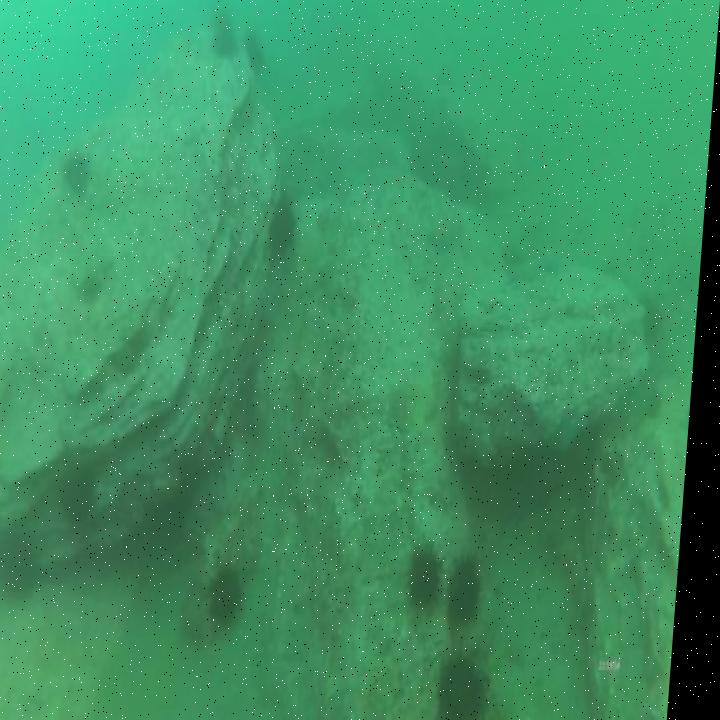echinus: (450, 661, 497, 720), (5, 539, 47, 597), (457, 562, 489, 631), (216, 572, 252, 628), (65, 468, 100, 519), (417, 549, 450, 603), (274, 198, 299, 254), (211, 9, 240, 57), (61, 148, 91, 190), (246, 39, 264, 71)
starfish: (553, 413, 583, 455), (428, 210, 456, 247), (512, 258, 551, 281)
